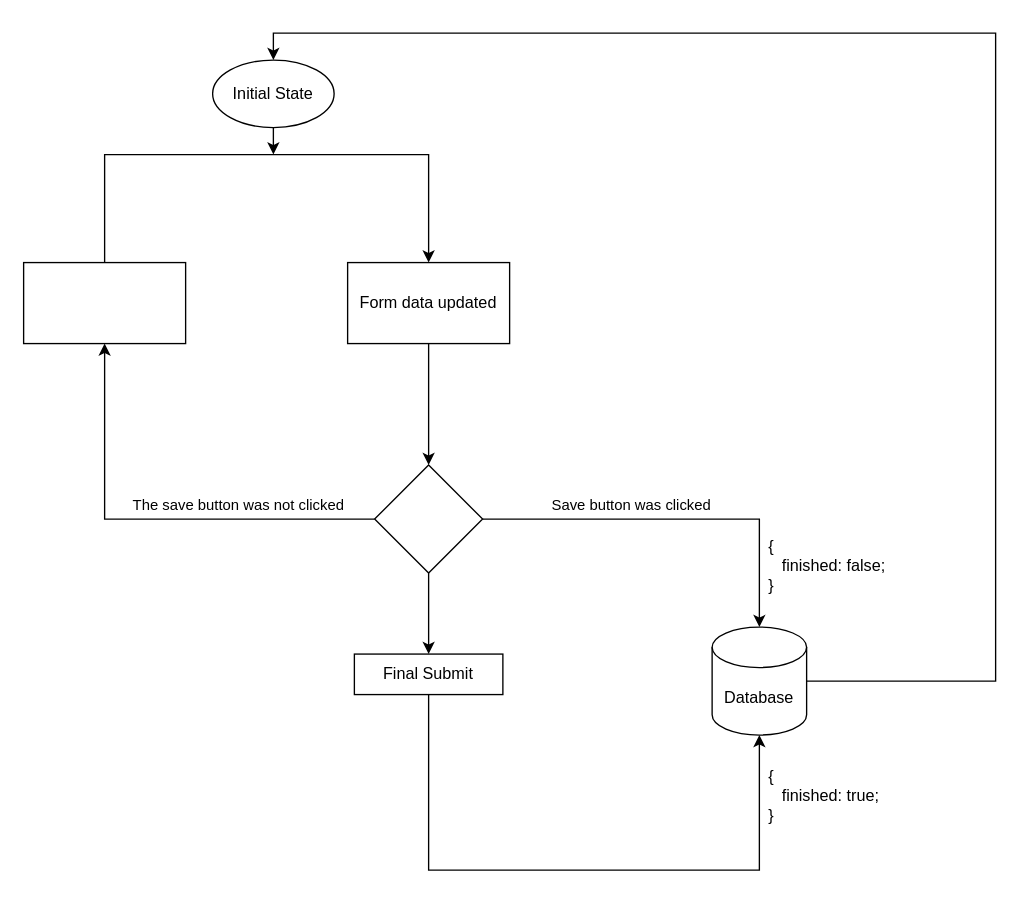
This 1030x905 diagram has some shape labels left out. Here are the shapes that lost their labels. From the top down, the centre of each, then its label:
At (104,302): "Redux State".
At (428,518): "Save".
